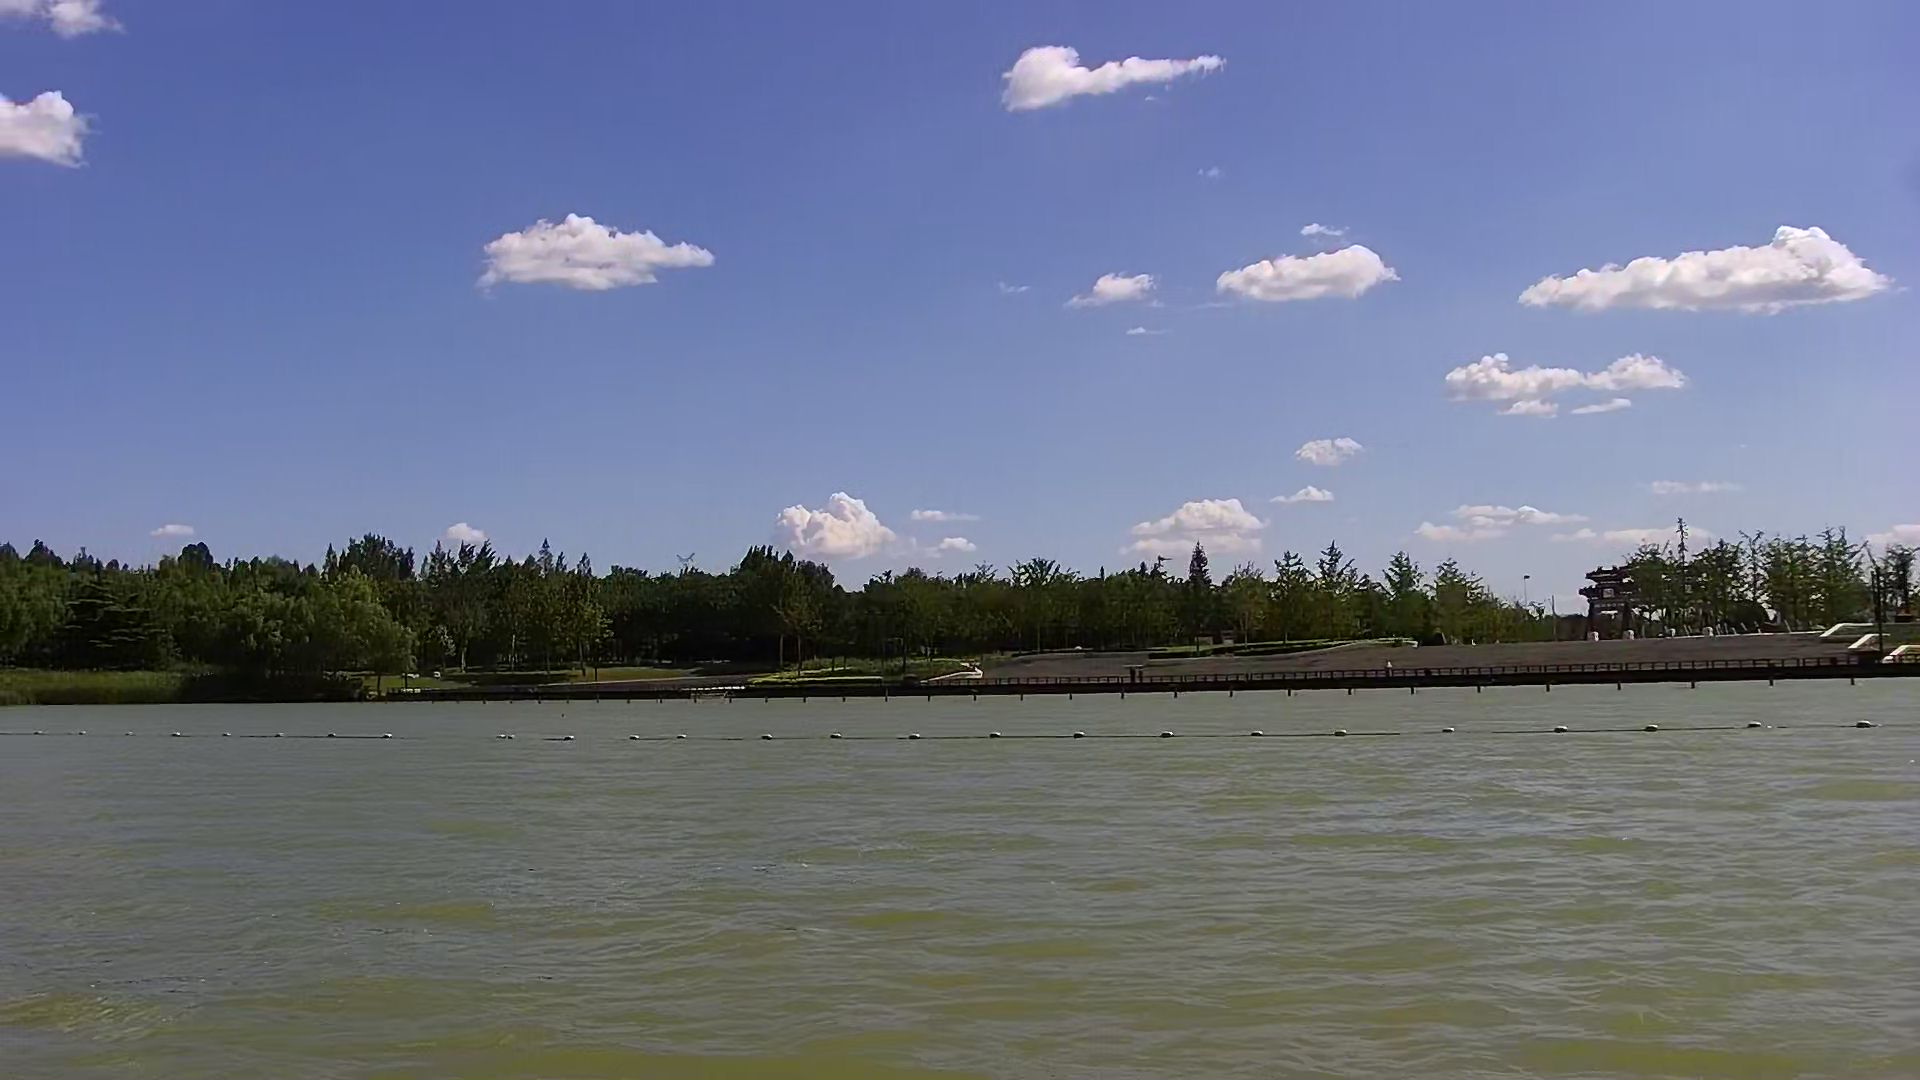ball: (1151, 727, 1188, 746), (899, 727, 927, 752), (1850, 712, 1879, 736), (818, 725, 851, 745), (1638, 717, 1668, 736), (1743, 717, 1768, 735), (1068, 729, 1087, 745), (986, 727, 1002, 744), (1553, 720, 1568, 738), (1335, 723, 1348, 742)
harbor: (1019, 638, 1920, 698)
